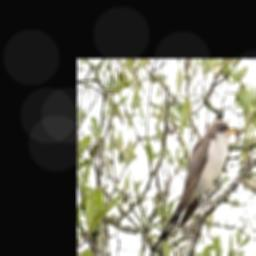Cuckoo: (147, 119, 236, 256)
